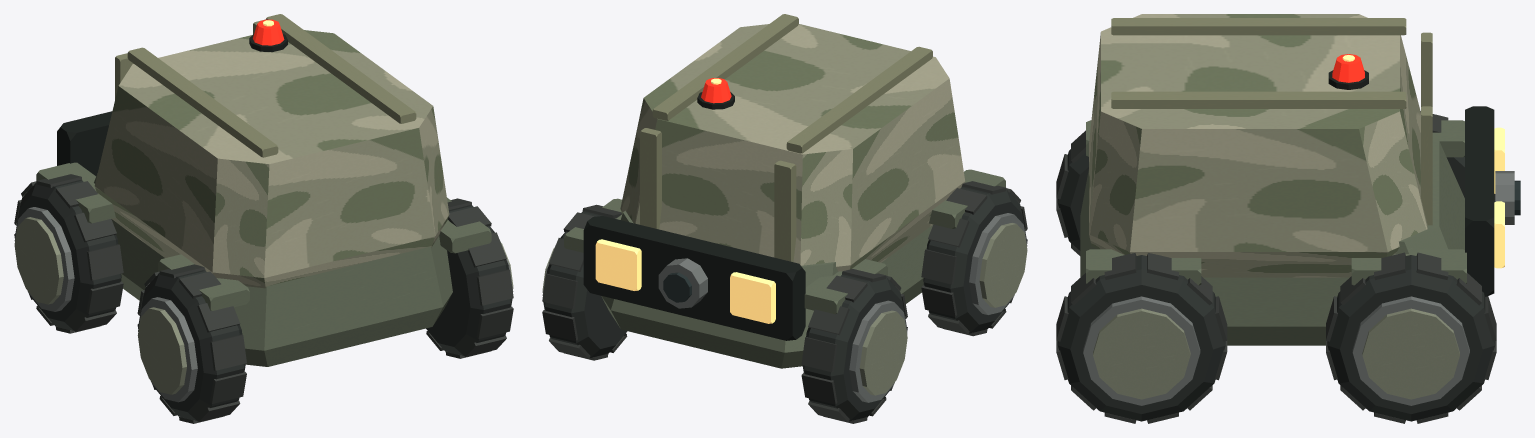
File: drone.glb
3 views of the same model, side by side, from view 1: azimuth 30°, elevation 25°; view 2: azimuth 150°, elevation 25°; view 3: azimuth 270°, elevation 25° (orthographic). The views are drawn at different scales.
Visible parts, largest first — view 1: drone_body, drone_wheel_L1, drone_wheel_L2, drone_wheel_R1, drone_beacon; view 2: drone_body, drone_wheel_L2, drone_wheel_L1, drone_wheel_R2, drone_beacon; view 3: drone_body, drone_wheel_R1, drone_wheel_R2, drone_wheel_L1, drone_beacon, drone_wheel_L2.
Part boxes in pixels (x1=…): drone_body: x1=36, y1=14, x2=491, y2=366; drone_wheel_L1: x1=137, y1=264, x2=246, y2=423; drone_wheel_L2: x1=14, y1=174, x2=123, y2=333; drone_wheel_R1: x1=426, y1=198, x2=513, y2=358; drone_beacon: x1=253, y1=19, x2=284, y2=45; drone_body: x1=564, y1=14, x2=1005, y2=368; drone_wheel_L2: x1=801, y1=269, x2=907, y2=423; drone_wheel_L1: x1=921, y1=181, x2=1027, y2=336; drone_wheel_R2: x1=542, y1=204, x2=627, y2=360; drone_beacon: x1=701, y1=78, x2=731, y2=103; drone_body: x1=1080, y1=14, x2=1520, y2=345; drone_wheel_R1: x1=1056, y1=253, x2=1227, y2=423; drone_wheel_R2: x1=1326, y1=252, x2=1496, y2=423; drone_wheel_L1: x1=1056, y1=130, x2=1088, y2=255; drone_beacon: x1=1332, y1=54, x2=1364, y2=82; drone_wheel_L2: x1=1420, y1=111, x2=1495, y2=202.
Size of the model in its own units: 0.2009 by 0.1629 by 0.2232.
Materials: 1 (1 with a texture image).
